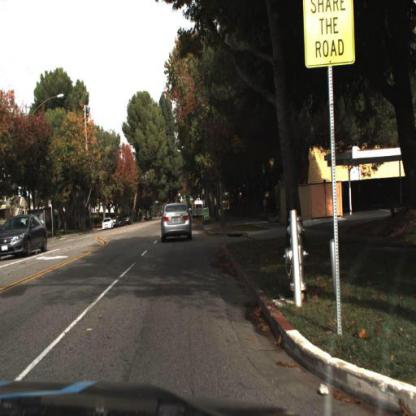car: (1, 216, 48, 260), (160, 201, 195, 247), (103, 214, 115, 232)
